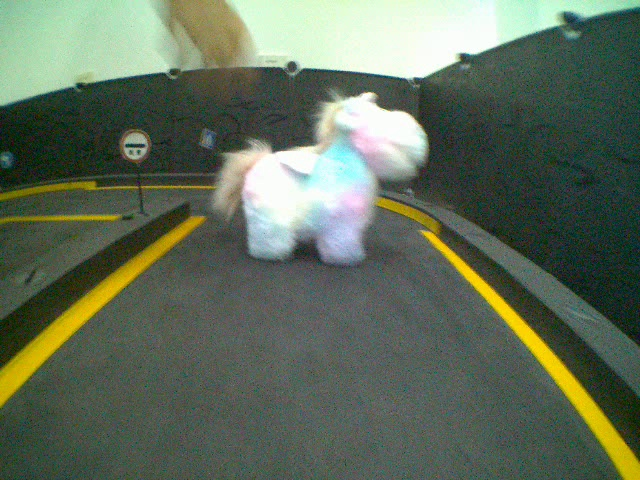unicorn: (207, 89, 432, 275)
